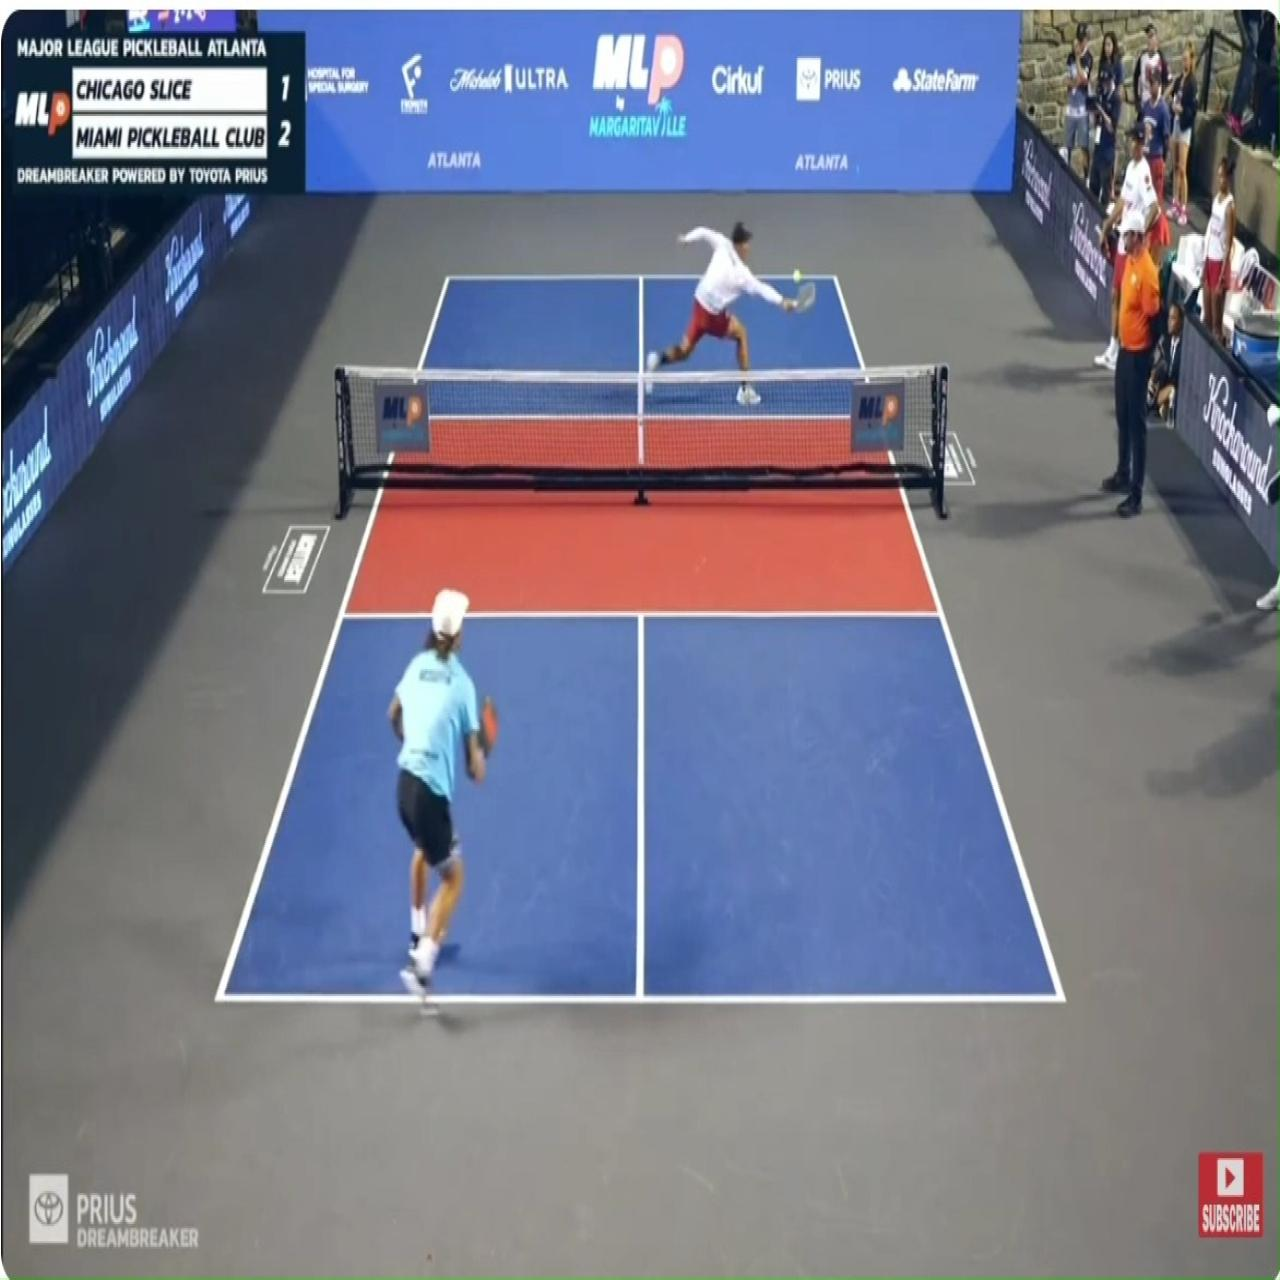pickleball: (792, 268, 803, 285)
